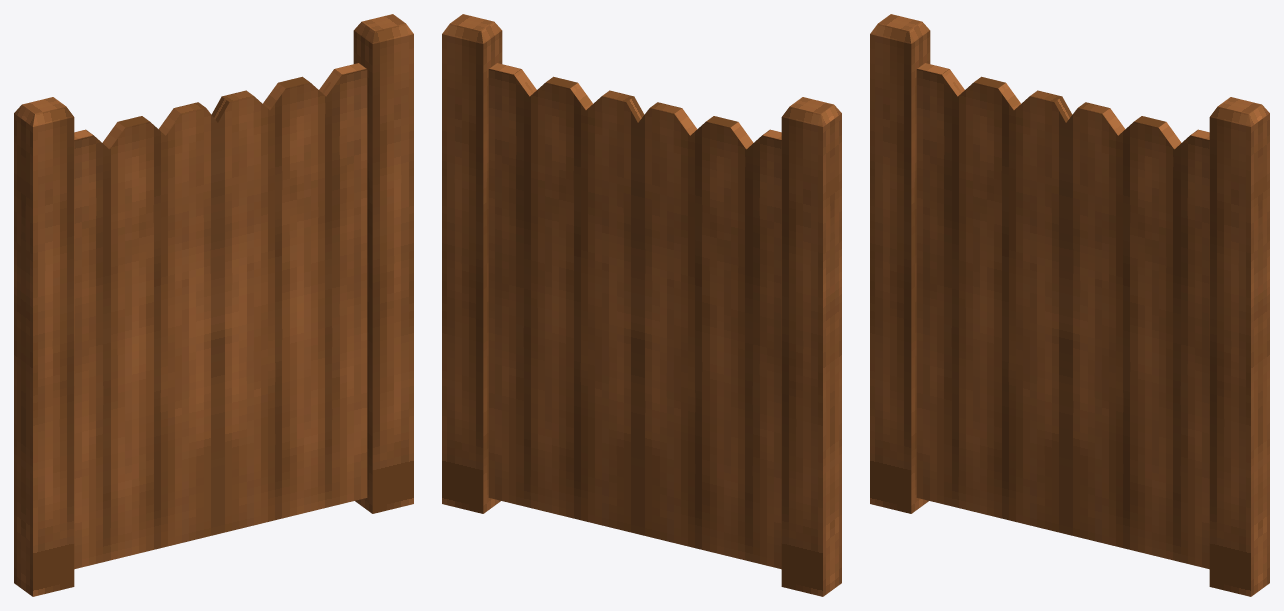
File: fence1.glb
The picture shows the model from 3 angles, left to right: view 1: azimuth 30°, elevation 25°; view 2: azimuth 150°, elevation 25°; view 3: azimuth 330°, elevation 25°; orthographic projection.
Visible parts, largest first — view 1: Cube.034; view 2: Cube.034; view 3: Cube.034.
Boxes of the visible parts, x1,y1,x2,y2 form: Cube.034: [14, 14, 413, 596]; Cube.034: [442, 14, 841, 596]; Cube.034: [870, 14, 1269, 596].
Bounding box in the file's own units: 7.83 × 9.42 × 0.6714.
1 material, 1 textured.
